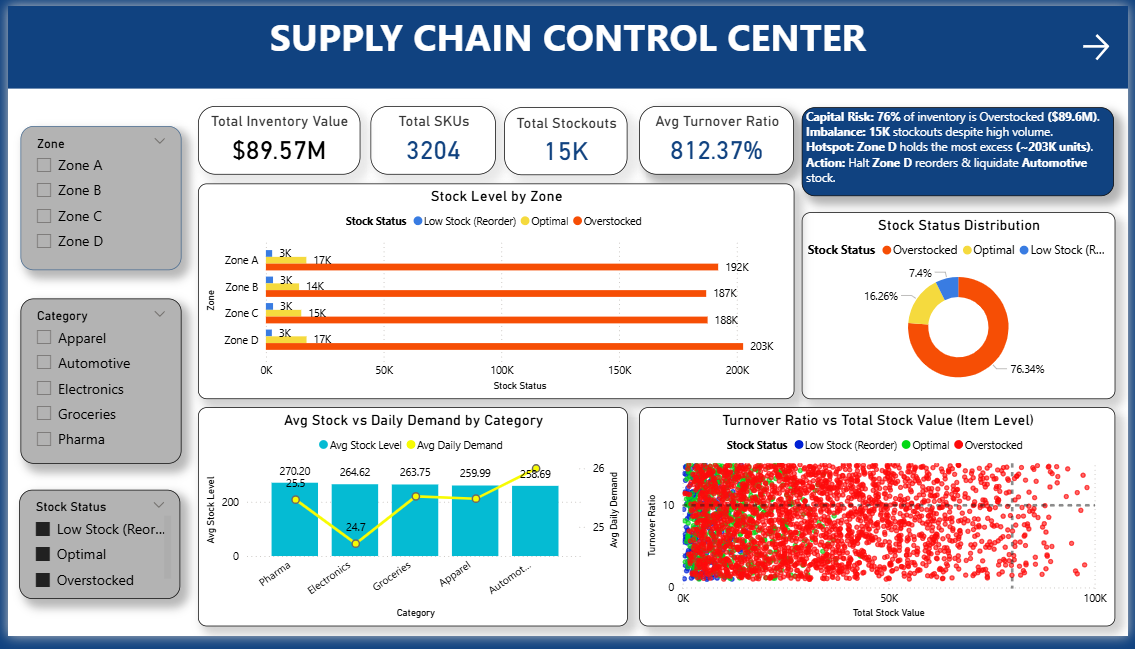

The page's visual inventory and layout, read from the dashboard file:
{"tool":"powerbi","page":{"name":"Page 1","canvas":[1280,720],"ordinal":0},"visuals":[{"type":"textbox","box":[0,0,1280,94.3],"z":0},{"type":"slicer","fields":{"Values":["logistics_dataset.Zone"]},"box":[13.8,137.5,183.8,165],"z":1000},{"type":"slicer","fields":{"Values":["logistics_dataset.Category"]},"box":[13.8,333.8,183.8,188.8],"z":2000},{"type":"slicer","fields":{"Values":["logistics_dataset.Stock Status"]},"box":[13.5,552.2,184.1,125.2],"z":3000},{"type":"card","title":"Total SKUs","fields":{"Values":["KeyMeasures.Total SKUs"]},"box":[414.7,114.1,143.6,78.5],"z":4000},{"type":"card","title":"Total Inventory Value","fields":{"Values":["KeyMeasures.Total Inventory Value"]},"box":[217.2,114.1,185.3,78.5],"z":5000},{"type":"card","title":"Total Stockouts","fields":{"Values":["KeyMeasures.Total Stockouts"]},"box":[566.9,115.3,141.1,77.3],"z":6000},{"type":"card","title":"Avg Turnover Ratio","fields":{"Values":["KeyMeasures.Avg Turnover Ratio"]},"box":[721.5,114.1,176.7,78.5],"z":7000},{"type":"donutChart","title":"Stock Status Distribution","fields":{"Category":["logistics_dataset.Stock Status"],"Y":["KeyMeasures.Total SKUs"]},"box":[906.8,235.1,358.3,214],"z":8000},{"type":"clusteredBarChart","title":"Stock Level by Zone","fields":{"Category":["logistics_dataset.Zone"],"Y":["Sum(logistics_dataset.stock_level)"],"Series":["logistics_dataset.Stock Status"]},"box":[217.5,202.5,681.2,246.2],"z":9000},{"type":"lineStackedColumnComboChart","title":"Avg Stock vs Daily Demand by Category","fields":{"Category":["logistics_dataset.Category"],"Y":["Avg(logistics_dataset.stock_level)"],"Y2":["Avg(logistics_dataset.daily_demand)"]},"box":[217.7,459,491.4,250],"z":10000},{"type":"scatterChart","title":"Turnover Ratio vs Total Stock Value (Item Level)","fields":{"X":["Sum(logistics_dataset.total_stock_value)"],"Y":["Avg(logistics_dataset.turnover_ratio)"],"Category":["logistics_dataset.item_id"],"Series":["logistics_dataset.Stock Status"]},"box":[721.5,459,543.6,250],"z":11000},{"type":"textbox","box":[907.1,115.7,357.1,101.4],"z":12000},{"type":"actionButton","box":[1223.3,26.7,41.7,40],"z":13000}]}

Visuals, with their boxes in screenshot pixels (x1, y1, x2, y2), scaled from the page's 1280x720 canvas onto the 1135x649 screenshot:
textbox: <box>0,0,1134,85</box>
slicer - logistics_dataset.Zone: <box>12,124,175,273</box>
slicer - logistics_dataset.Category: <box>12,301,175,471</box>
slicer - logistics_dataset.Stock Status: <box>12,498,175,611</box>
"Total SKUs" card: <box>368,103,495,174</box>
"Total Inventory Value" card: <box>193,103,357,174</box>
"Total Stockouts" card: <box>503,104,628,174</box>
"Avg Turnover Ratio" card: <box>640,103,796,174</box>
"Stock Status Distribution" donutChart: <box>804,212,1122,405</box>
"Stock Level by Zone" clusteredBarChart: <box>193,183,797,404</box>
"Avg Stock vs Daily Demand by Category" lineStackedColumnComboChart: <box>193,414,629,639</box>
"Turnover Ratio vs Total Stock Value (Item Level)" scatterChart: <box>640,414,1122,639</box>
textbox: <box>804,104,1121,196</box>
actionButton: <box>1085,24,1122,60</box>
